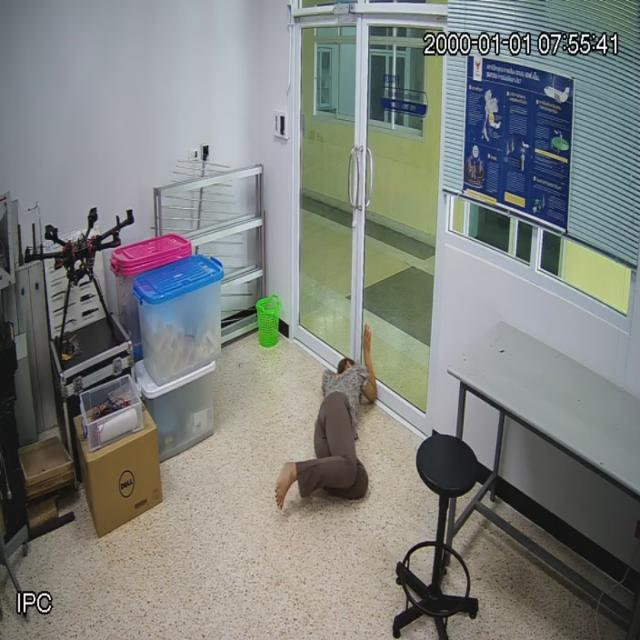fall: (282, 327, 383, 526)
